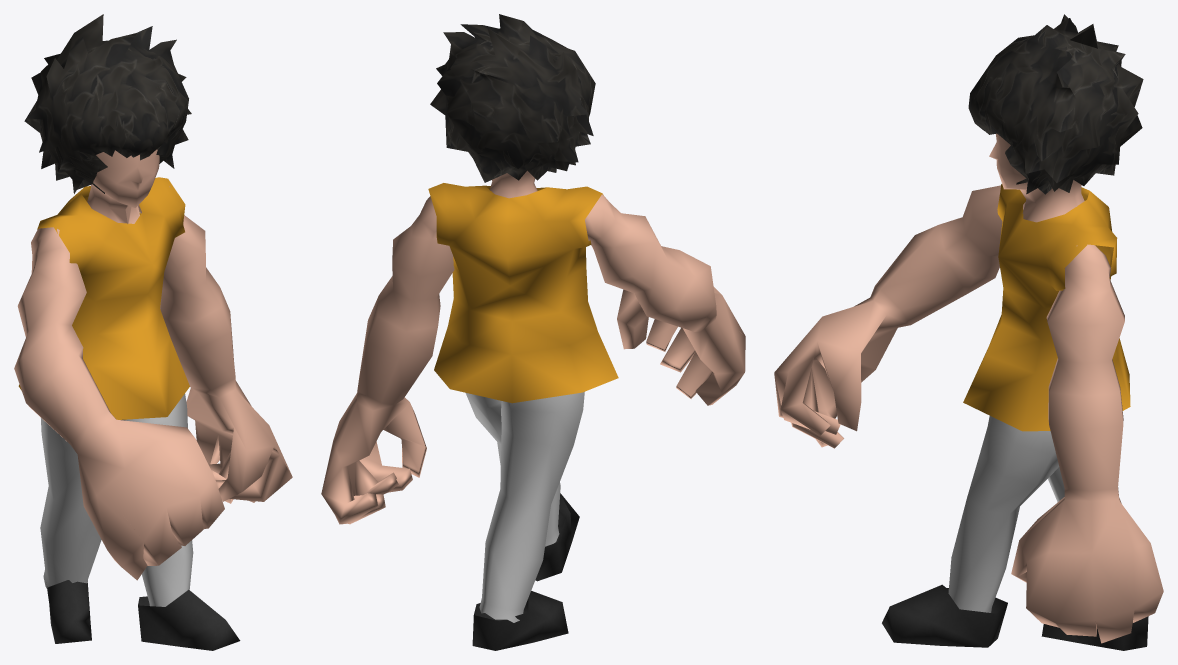
The model's file is hachi.fbx.
3 views of the same model, side by side, from view 1: azimuth 30°, elevation 25°; view 2: azimuth 150°, elevation 25°; view 3: azimuth 270°, elevation 25° (orthographic). The views are drawn at different scales.
Parts seen in each view (by area): view 1: body__ncl1_35:002; view 2: body__ncl1_35:002; view 3: body__ncl1_35:002.
Boxes of the visible parts, x1,y1,x2,y2 form: body__ncl1_35:002: (14, 14, 292, 650); body__ncl1_35:002: (321, 14, 745, 650); body__ncl1_35:002: (774, 14, 1163, 650).
Size of the model in its own units: 11.74 by 21.74 by 12.16.
